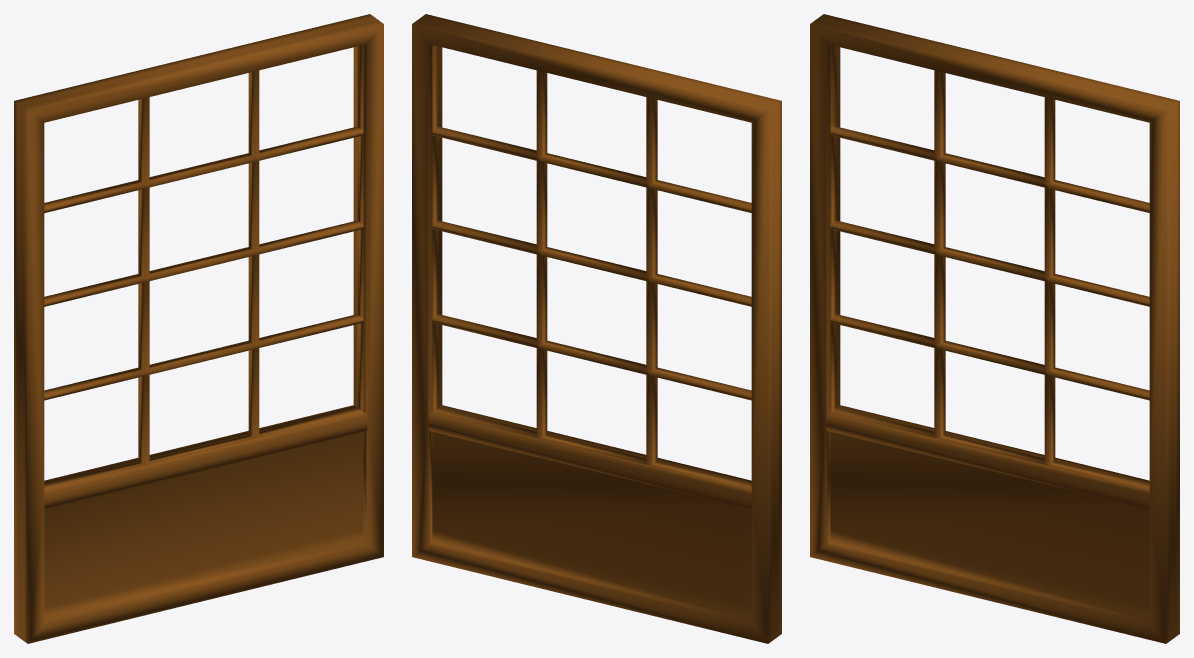
File: shoji.obj
3 renders of one model, left to right at view 1: azimuth 30°, elevation 25°; view 2: azimuth 150°, elevation 25°; view 3: azimuth 330°, elevation 25°, orthographic.
Parts seen in each view (by area): view 1: 立方体; view 2: 立方体; view 3: 立方体.
Boxes of the visible parts, left/top/right/bottom form: 立方体: left=14, top=14, right=383, bottom=643; 立方体: left=412, top=14, right=781, bottom=643; 立方体: left=810, top=14, right=1179, bottom=643.
Size of the model in its own units: 5.62 by 8.04 by 0.3759.
1 material, 1 textured.
